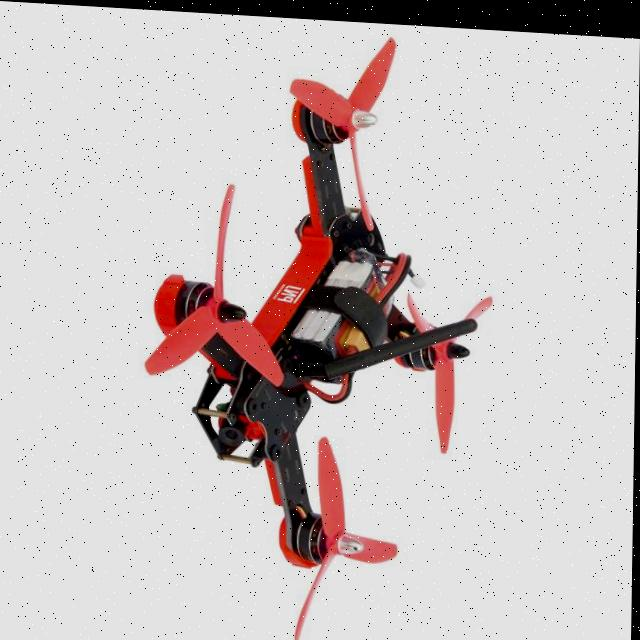drone: (165, 28, 500, 624)
